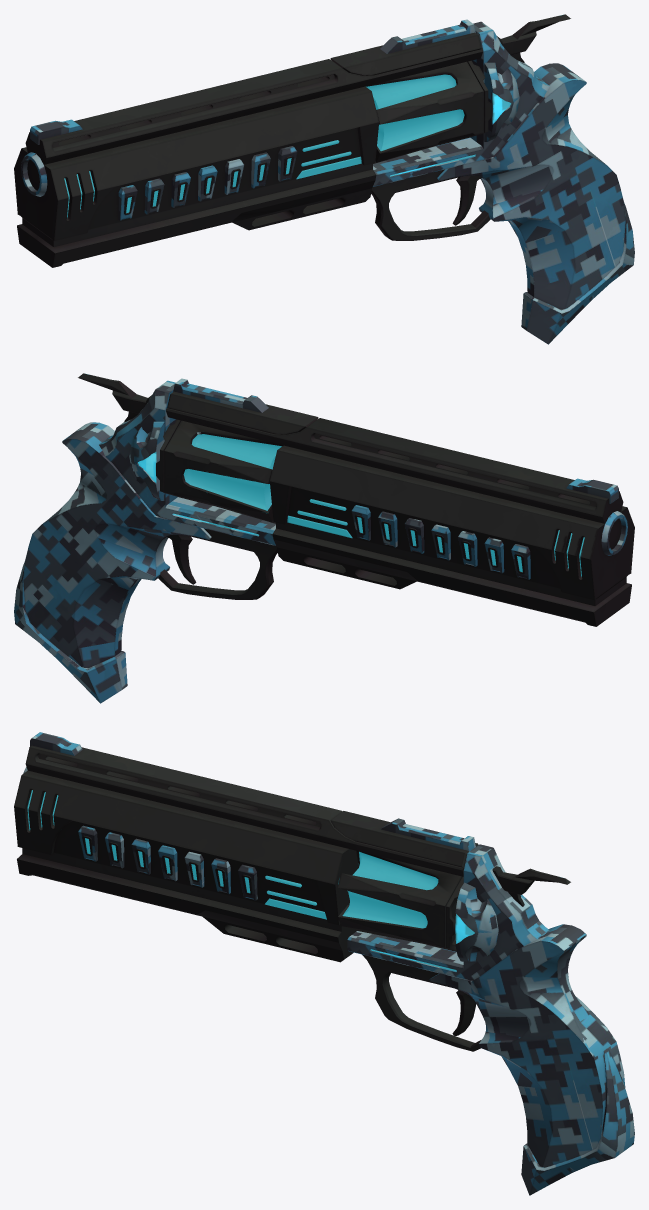
Rendered from pistol2.fbx.
3 views of the same model, one above another, from view 1: azimuth 30°, elevation 25°; view 2: azimuth 150°, elevation 25°; view 3: azimuth 330°, elevation 25° (orthographic).
Visible parts, largest first — view 1: Pistol2, Pistol2_Magazine, Pistol2_Hammer, Pistol2_Trigger; view 2: Pistol2, Pistol2_Magazine, Pistol2_Hammer, Pistol2_Trigger; view 3: Pistol2, Pistol2_Magazine, Pistol2_Hammer.
Boxes of the visible parts, <box> form: Pistol2: <box>14,19,634,344</box>; Pistol2_Magazine: <box>365,60,492,163</box>; Pistol2_Hammer: <box>497,14,570,62</box>; Pistol2_Trigger: <box>452,175,482,225</box>; Pistol2: <box>14,378,634,703</box>; Pistol2_Magazine: <box>156,419,283,523</box>; Pistol2_Hammer: <box>78,373,151,421</box>; Pistol2_Trigger: <box>166,534,196,584</box>; Pistol2: <box>14,732,634,1195</box>; Pistol2_Magazine: <box>338,850,463,951</box>; Pistol2_Hammer: <box>492,866,570,906</box>.
Bounding box in the file's own units: 229 × 123 × 29.32.
